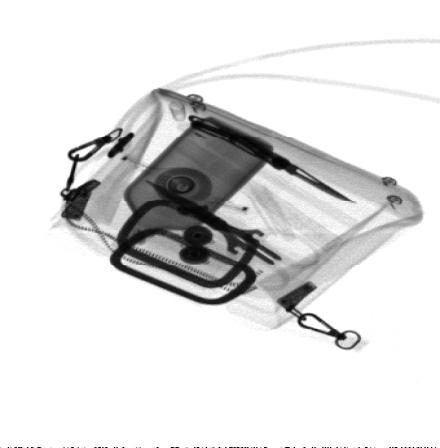Knife: (190, 116, 357, 203)
Scissors: (142, 178, 323, 292)
